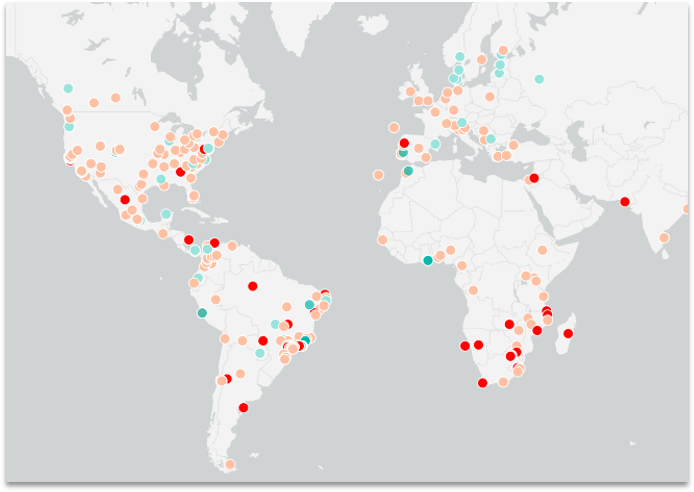

The dashboard page shown, as its layout file describes it:
{"tool":"powerbi","page":{"name":"Page 2","canvas":[1280,720],"ordinal":1},"visuals":[{"type":"actionButton","box":[0,0,100,40],"z":0},{"type":"esriVisual","title":"Cities by magnitude of problems","fields":{"Latitude":["Table1.City latitude"],"Longitude":["Table1.City longitude"],"Color":["Table1.Magnitude"]},"box":[0,0,1280.3,720],"z":1000}]}

Visuals, with their boxes in screenshot pixels (x1, y1, x2, y2):
actionButton: [2, 98, 55, 119]
"Cities by magnitude of problems" esriVisual: [2, 98, 686, 483]
